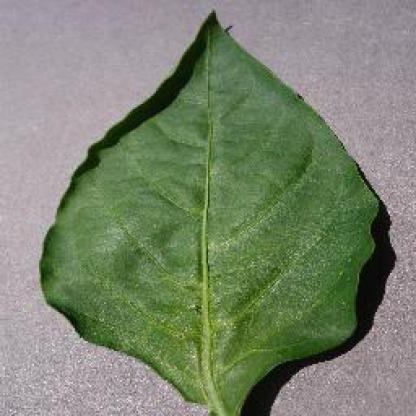bad leaf: (15, 200, 385, 414)
good leaf: (0, 1, 397, 235)
